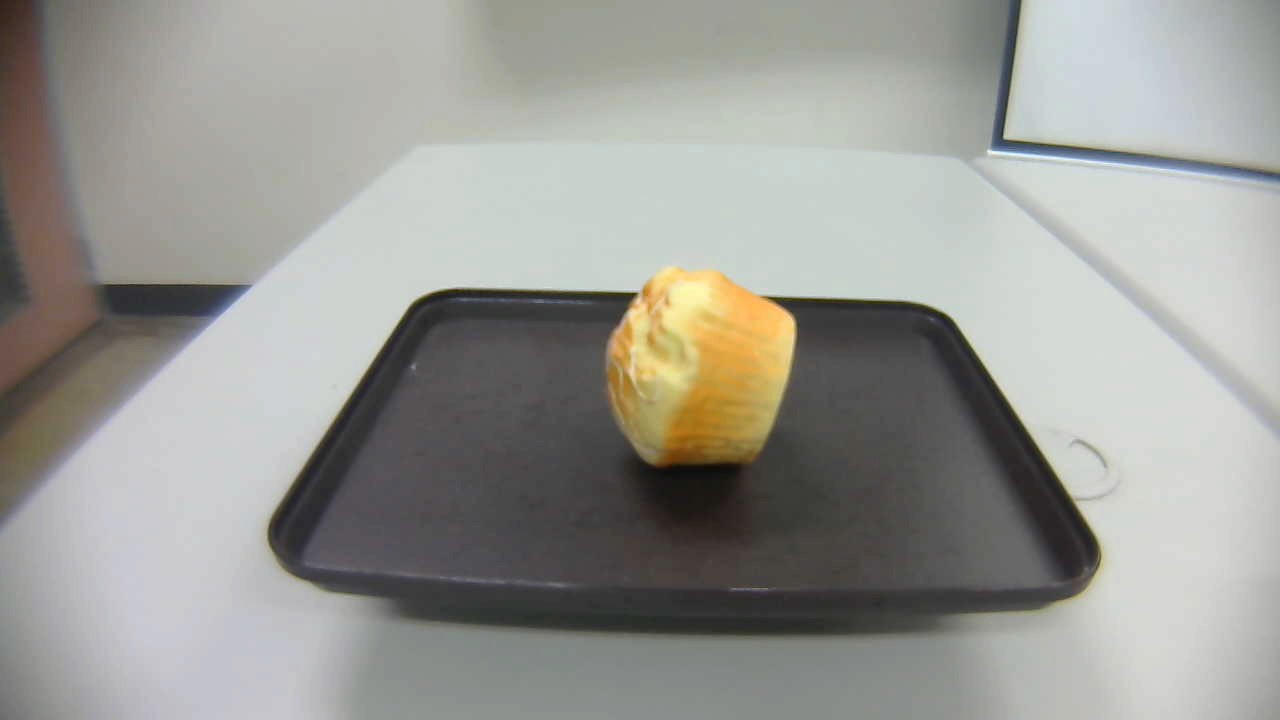cupcake: (602, 266, 799, 469)
